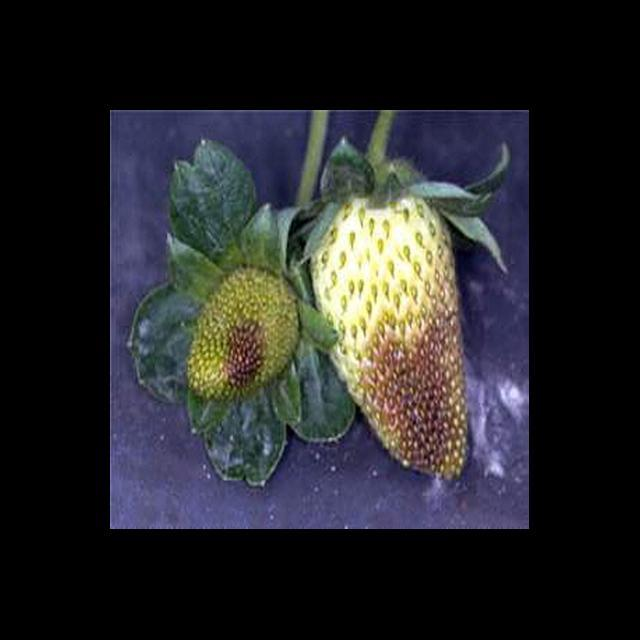Anthracnose Fruit Rot: (359, 264, 469, 477), (216, 312, 266, 396)
